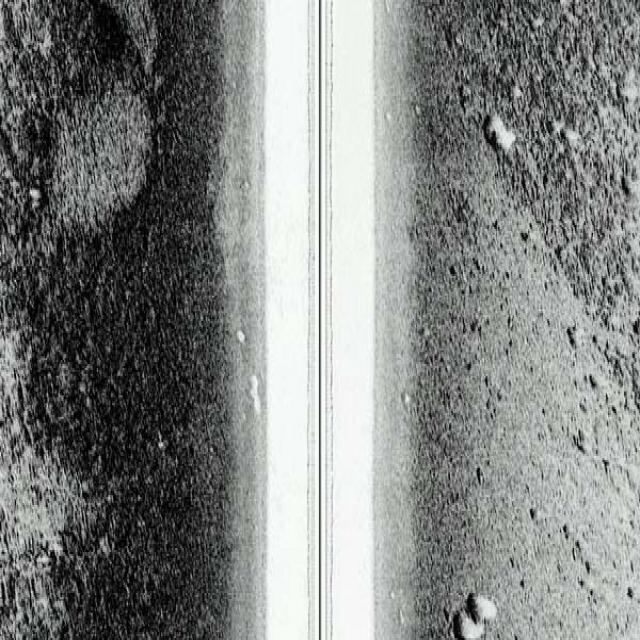other: (442, 579, 508, 638), (473, 102, 522, 170)
